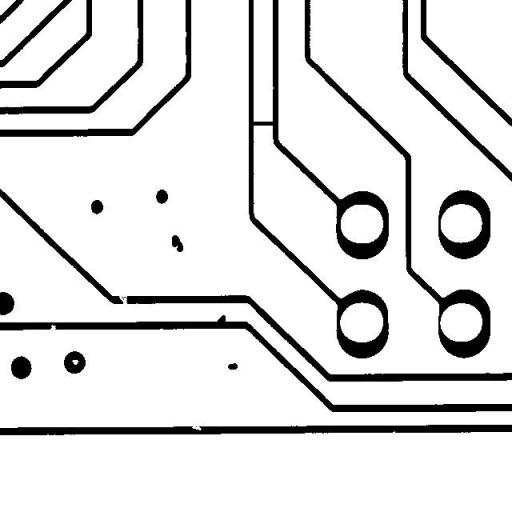copper: (164, 227, 190, 259), (220, 355, 245, 377)
mousebite: (184, 416, 209, 438), (42, 316, 64, 338)
open: (108, 282, 134, 313)
pin-hole: (64, 352, 86, 372)
short: (245, 114, 282, 132)
spur: (210, 307, 232, 332)
